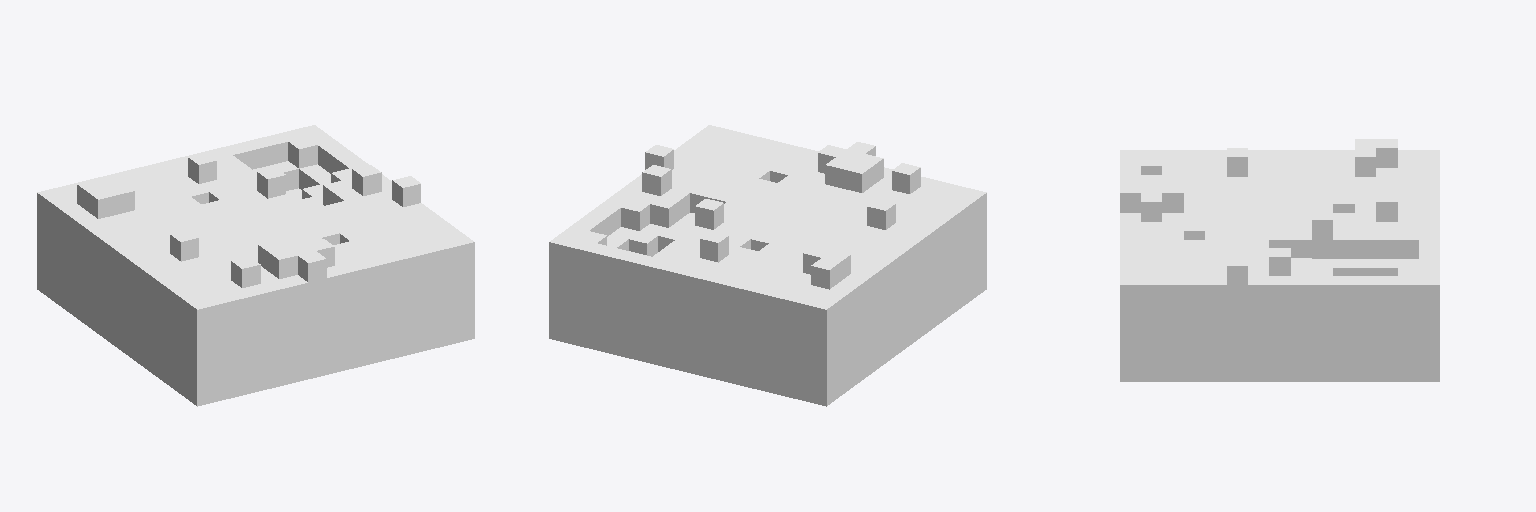
Rendered from grass_tile_001.obj.
3 renders of one model, left to right at view 1: azimuth 30°, elevation 25°; view 2: azimuth 150°, elevation 25°; view 3: azimuth 270°, elevation 25°, orthographic.
Visible parts, largest first — view 1: object 1; view 2: object 1; view 3: object 1.
Boxes of the visible parts, x1=… form: object 1: x1=37, y1=125, x2=474, y2=406; object 1: x1=549, y1=125, x2=986, y2=406; object 1: x1=1120, y1=139, x2=1439, y2=381.
Bounding box in the file's own units: 1.5 × 0.6 × 1.5.